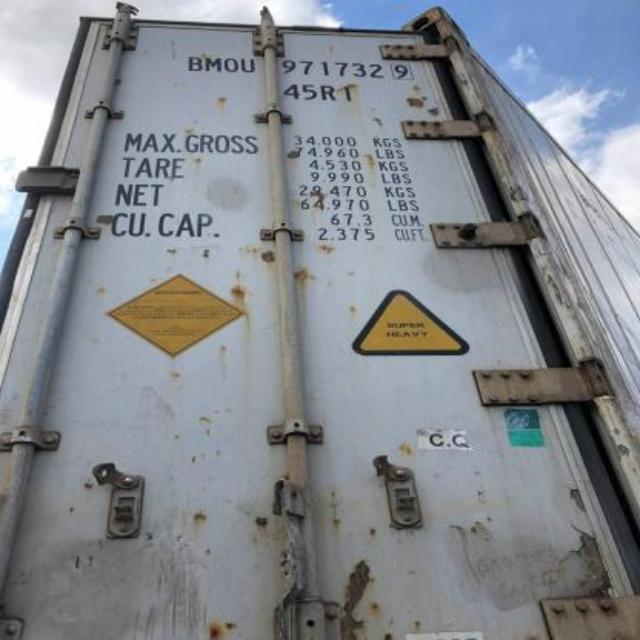1: (320, 52, 334, 78)
2: (366, 59, 384, 82)
3: (350, 54, 368, 82)
7: (297, 54, 315, 80), (334, 58, 352, 82)
9: (388, 61, 416, 84), (278, 56, 294, 76)
B: (188, 52, 202, 74)
M: (202, 54, 222, 76)
O: (221, 50, 239, 80)
U: (239, 52, 255, 80)
